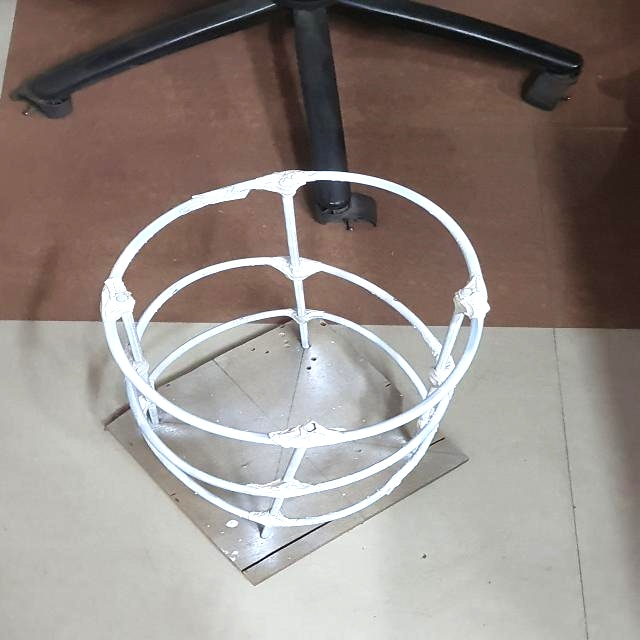silo: (95, 166, 477, 571)
